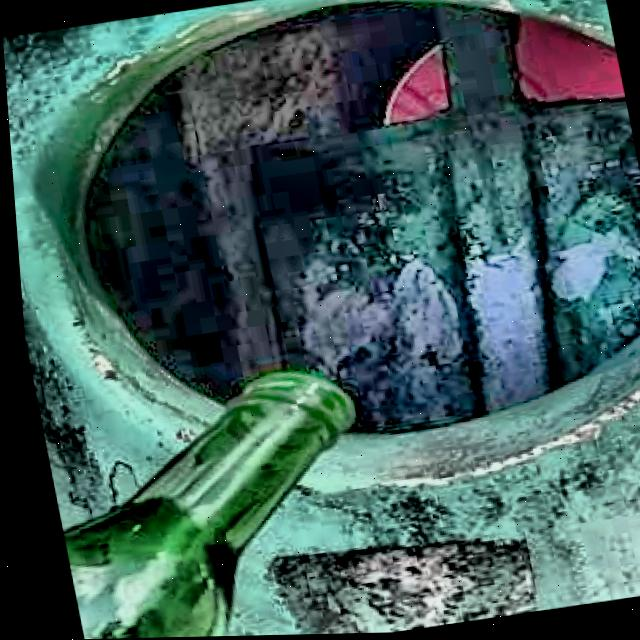glass: (55, 376, 342, 639)
